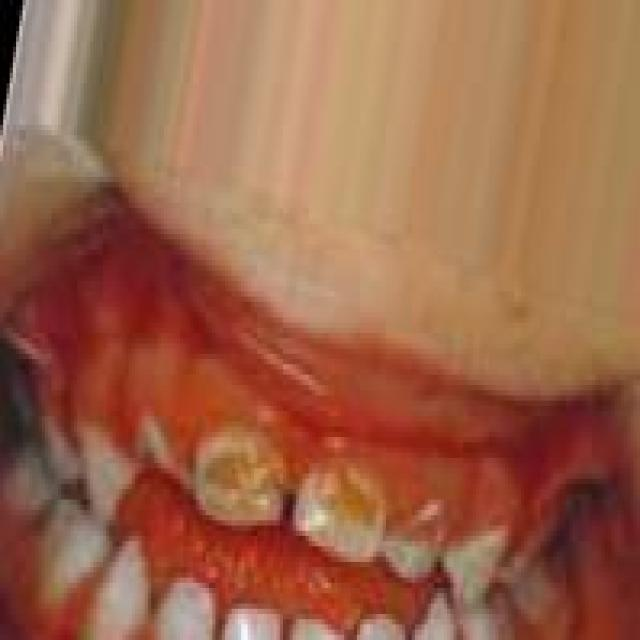caries: (192, 417, 285, 533), (293, 457, 386, 569), (385, 494, 451, 591), (131, 412, 182, 490)
